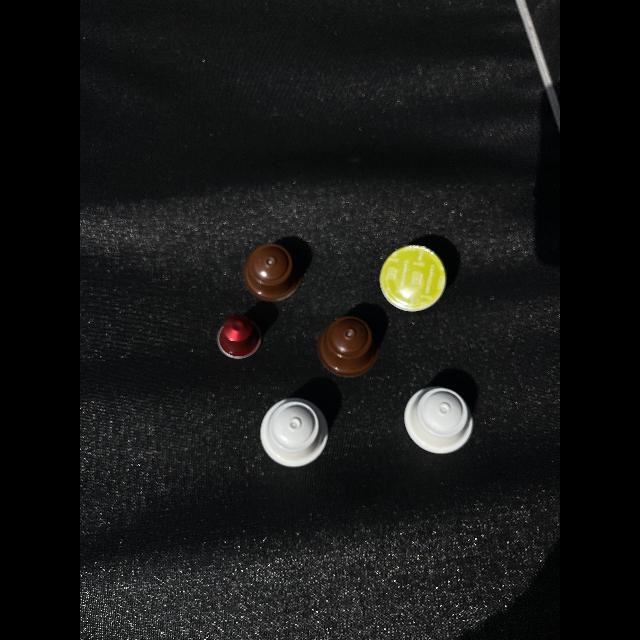intact_capsule: (252, 387, 338, 471), (402, 378, 478, 462), (375, 240, 453, 318), (316, 307, 388, 385), (241, 237, 305, 311), (215, 310, 269, 372)
